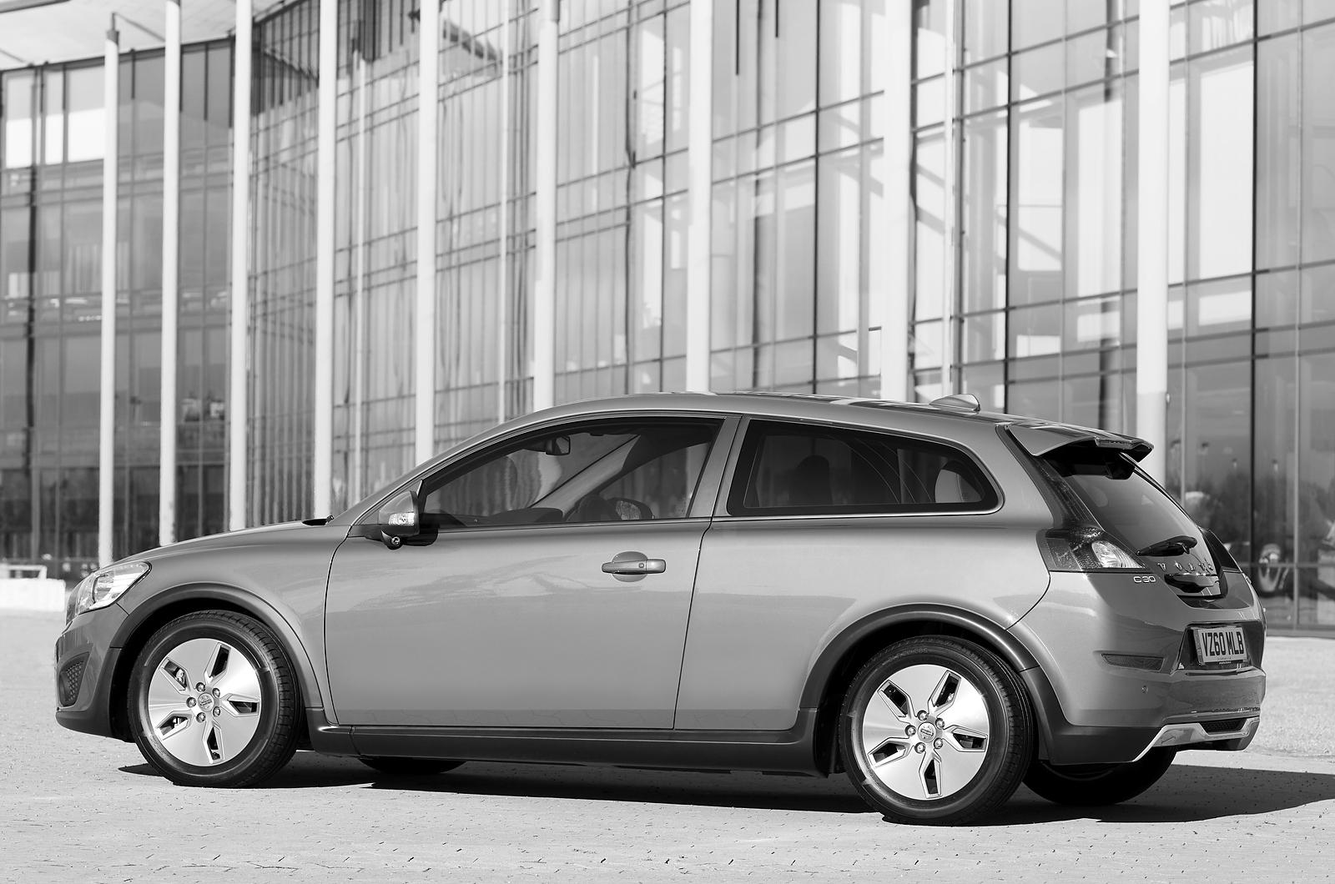car: (54, 399, 1263, 825)
